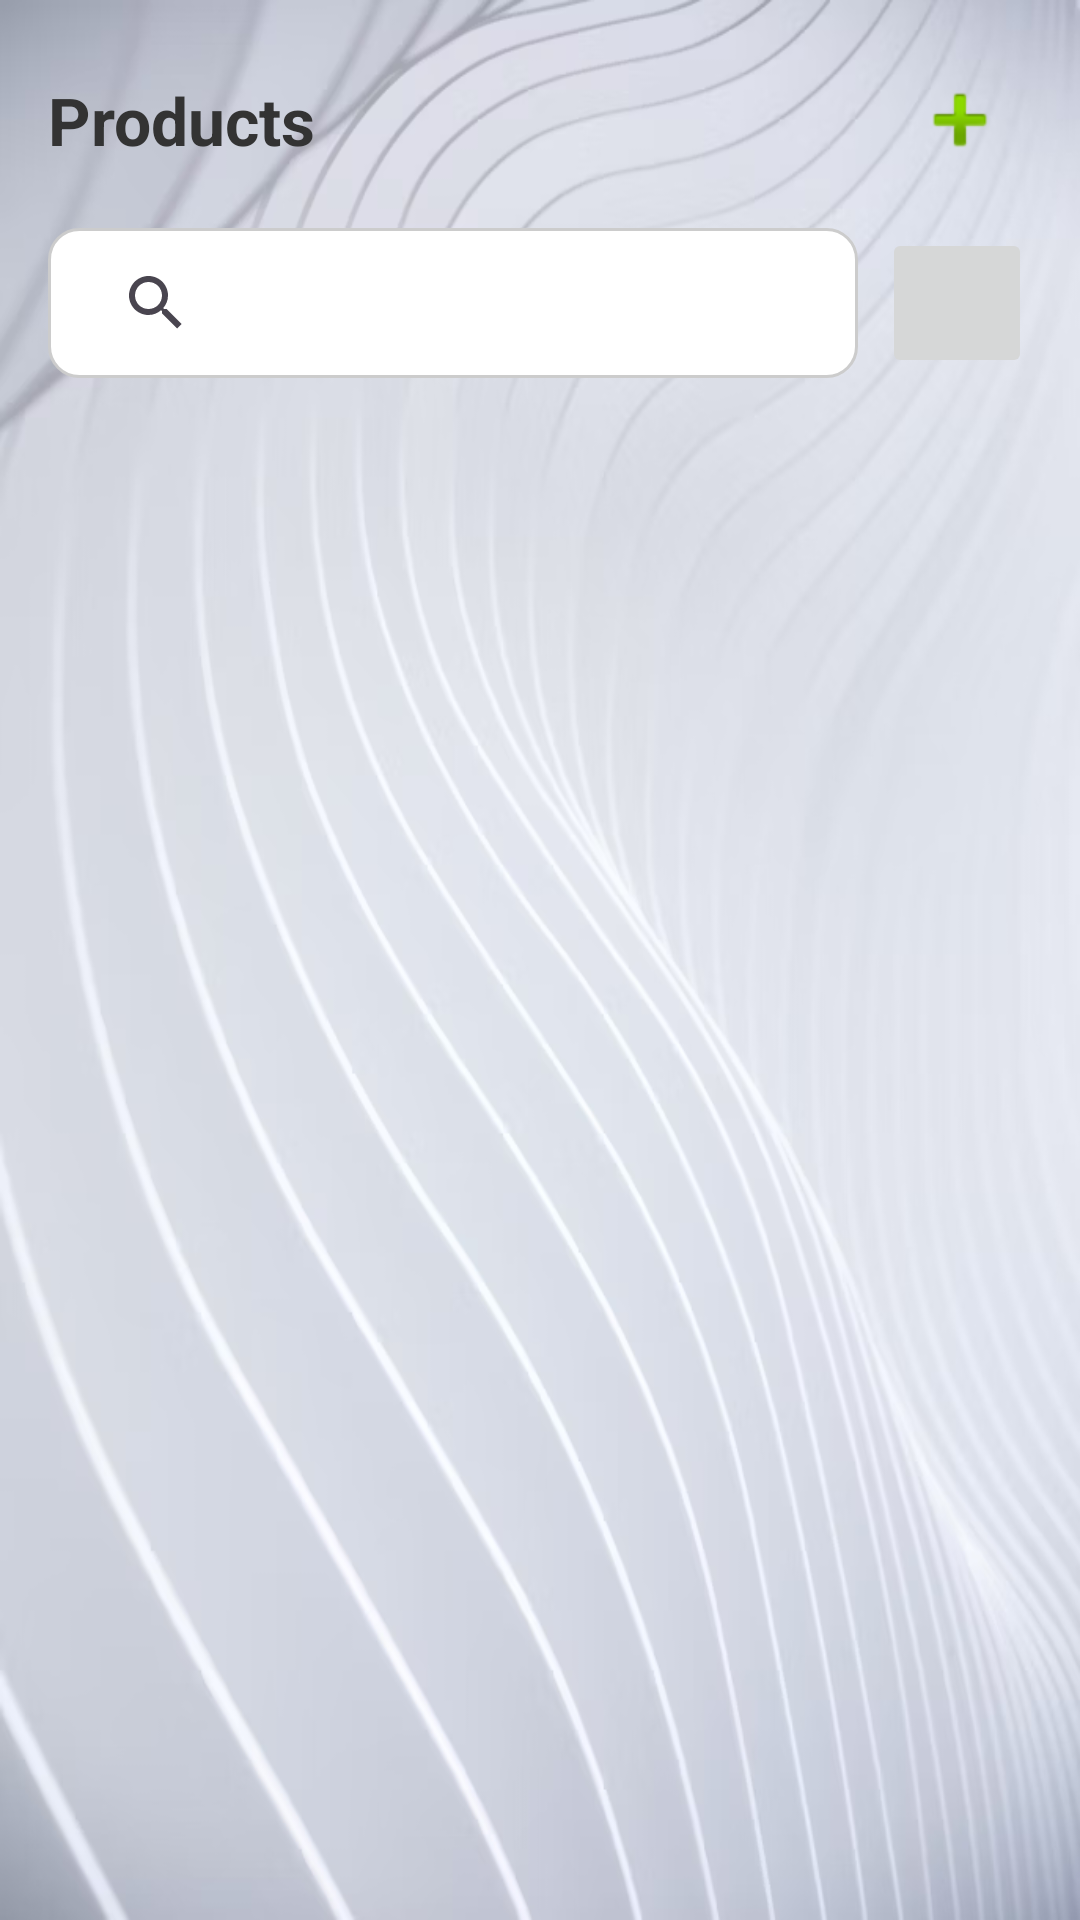

Icons on this 1080*1920 Android screen, each with the point to tap as [x,y]:
Add Product: [960,103]
